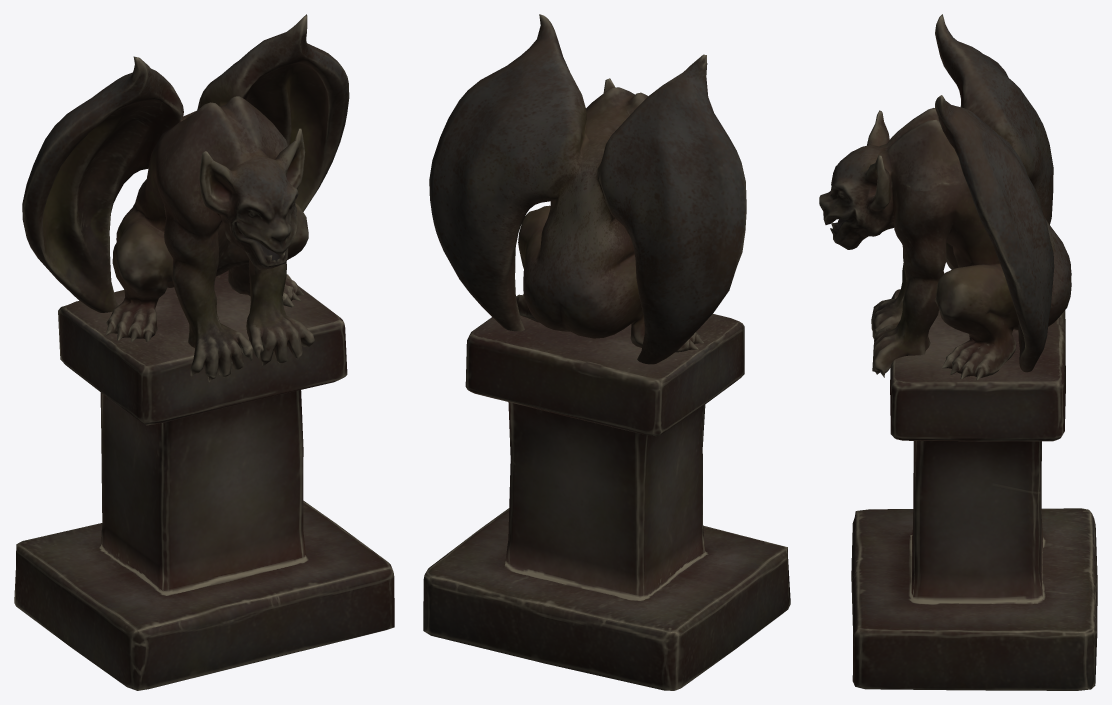
File: gargoyle.glb
The picture shows the model from 3 angles, left to right: view 1: azimuth 30°, elevation 25°; view 2: azimuth 150°, elevation 25°; view 3: azimuth 270°, elevation 25°; orthographic projection. The views are drawn at different scales.
Parts seen in each view (by area): view 1: gargoyle; view 2: gargoyle; view 3: gargoyle.
Part boxes in pixels (left/top/right/bottom): gargoyle: left=14, top=14, right=394, bottom=690; gargoyle: left=423, top=14, right=790, bottom=690; gargoyle: left=819, top=14, right=1097, bottom=690.
Bounding box in the file's own units: 54.53 × 96.11 × 42.2.
1 material, 1 textured.
